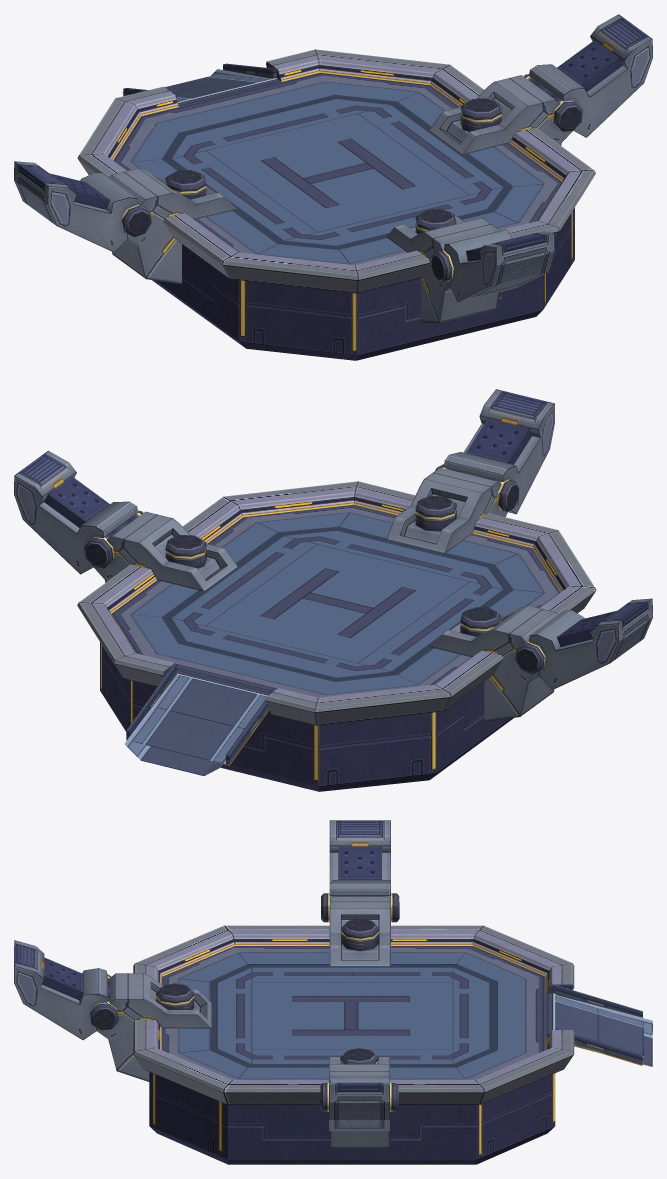
File: Scece_01_pingtai01.FBX
3 views of the same model, one above another, from view 1: azimuth 30°, elevation 25°; view 2: azimuth 150°, elevation 25°; view 3: azimuth 270°, elevation 25° (orthographic). The views are drawn at different scales.
Visible parts, largest first — view 1: Scece_01_pingtai01_03, Scece_01_pingtai01_02, Scece_01_pingtai01_01; view 2: Scece_01_pingtai01_03, Scece_01_pingtai01_02, Scece_01_pingtai01_01; view 3: Scece_01_pingtai01_03, Scece_01_pingtai01_02, Scece_01_pingtai01_01.
Part boxes in pixels (left/top/right/bottom): Scece_01_pingtai01_03: left=14, top=14, right=652, bottom=360; Scece_01_pingtai01_02: left=132, top=82, right=542, bottom=263; Scece_01_pingtai01_01: left=113, top=63, right=561, bottom=265; Scece_01_pingtai01_03: left=14, top=389, right=652, bottom=791; Scece_01_pingtai01_02: left=132, top=513, right=543, bottom=694; Scece_01_pingtai01_01: left=111, top=504, right=560, bottom=775; Scece_01_pingtai01_03: left=14, top=820, right=574, bottom=1164; Scece_01_pingtai01_02: left=179, top=953, right=524, bottom=1078; Scece_01_pingtai01_01: left=162, top=946, right=652, bottom=1079.
Bounding box in the file's own units: 7.75 × 1.92 × 7.87.
3 materials, 3 textured.
